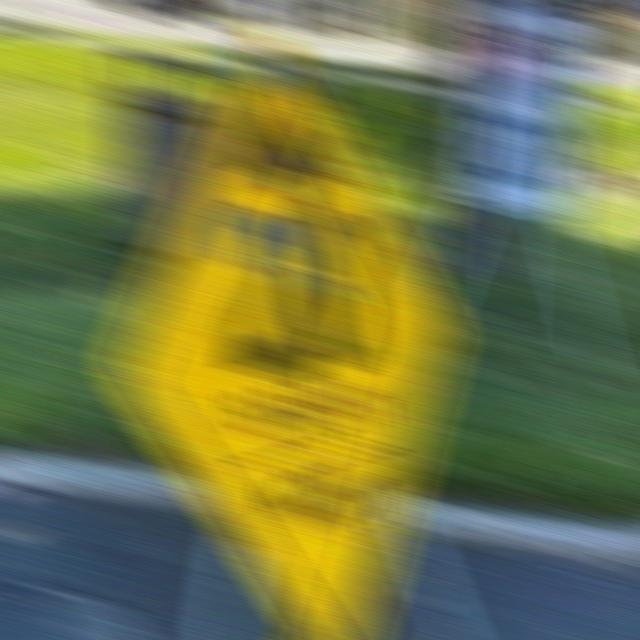speedLimit20: (467, 9, 573, 216)
